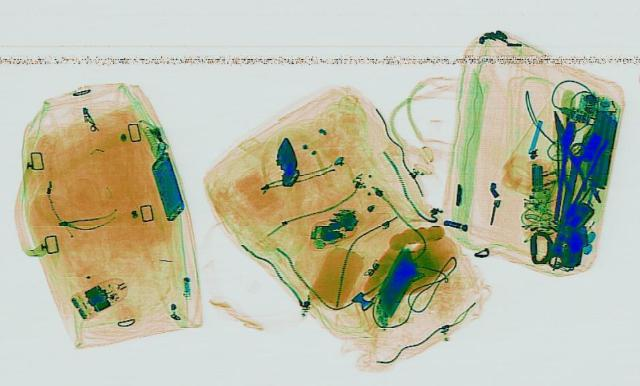Wrench: (546, 141, 588, 267)
